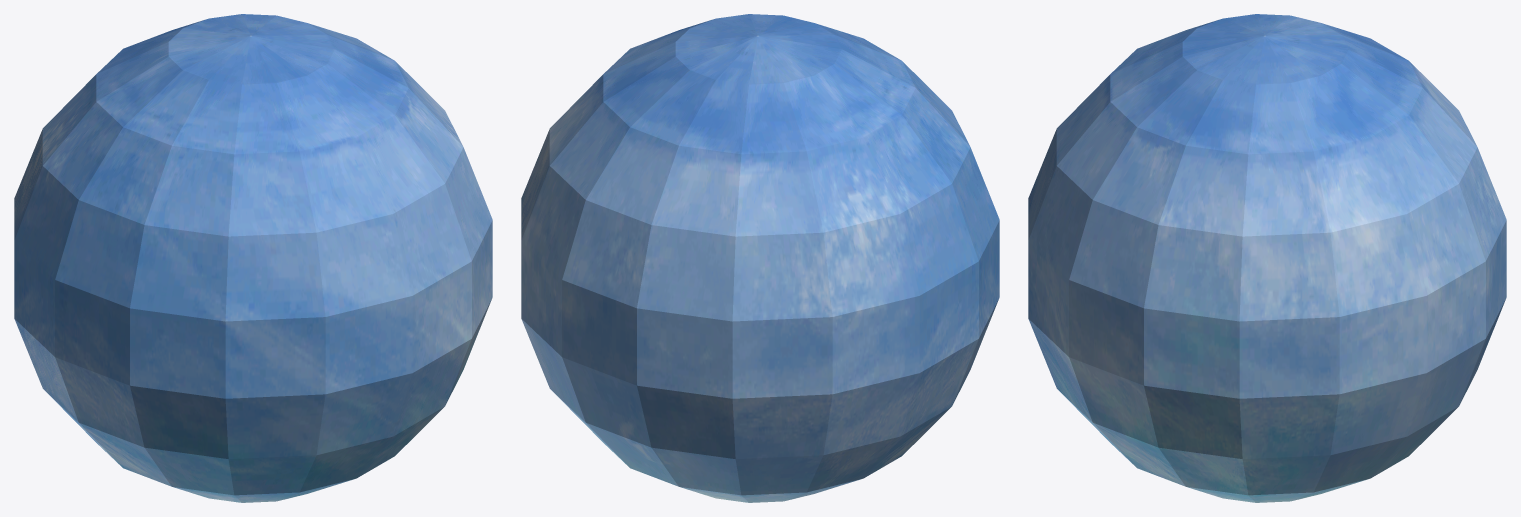
The model's file is skybox.obj.
3 views of the same model, side by side, from view 1: azimuth 30°, elevation 25°; view 2: azimuth 150°, elevation 25°; view 3: azimuth 270°, elevation 25° (orthographic).
Parts seen in each view (by area): view 1: Sphere; view 2: Sphere; view 3: Sphere.
Boxes of the visible parts, x1,y1,x2,y2 form: Sphere: [14, 14, 492, 502]; Sphere: [521, 14, 999, 502]; Sphere: [1028, 14, 1506, 502].
Bounding box in the file's own units: 1.96 × 2 × 1.95.
Materials: 1 (1 with a texture image).
